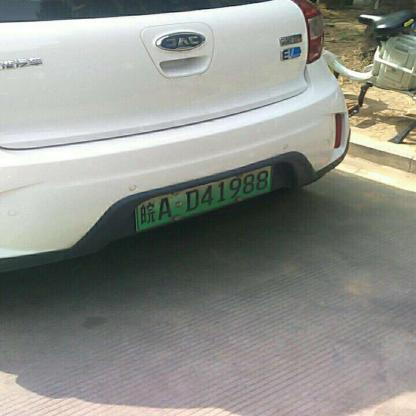lp: (137, 165, 270, 229)
